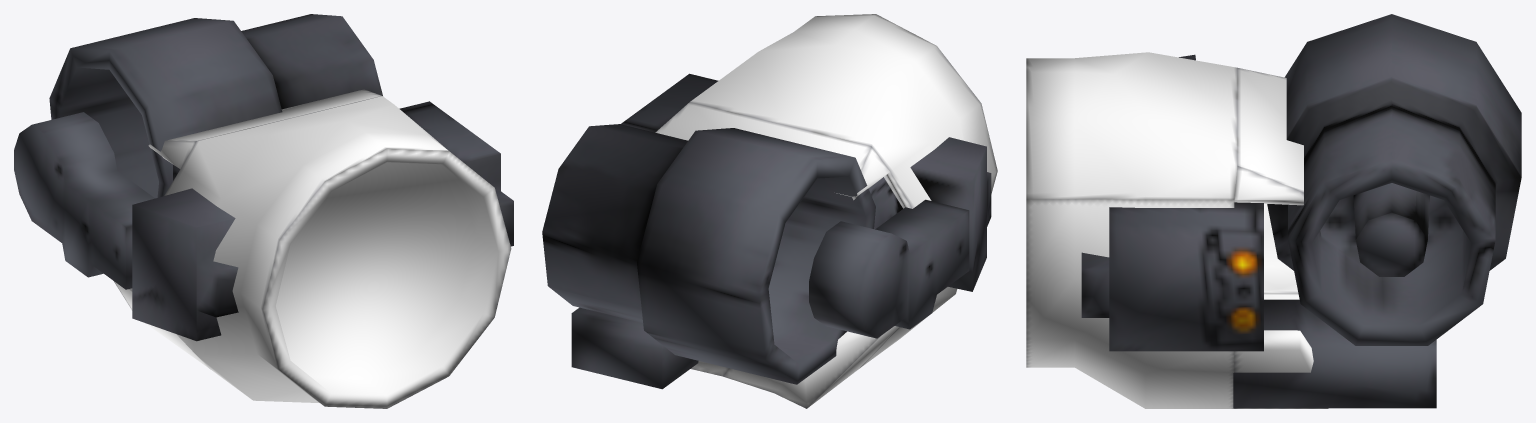
The model's file is l_uarm.obj.
3 renders of one model, left to right at view 1: azimuth 30°, elevation 25°; view 2: azimuth 150°, elevation 25°; view 3: azimuth 270°, elevation 25°, orthographic. The views are drawn at different scales.
Parts seen in each view (by area): view 1: <dummy_root>; view 2: <dummy_root>; view 3: <dummy_root>.
Boxes of the visible parts, x1,y1,x2,y2 form: <dummy_root>: [14, 14, 513, 408]; <dummy_root>: [542, 14, 997, 408]; <dummy_root>: [1026, 14, 1521, 408].
Size of the model in its own units: 0.1475 by 0.1261 by 0.1769.
Materials: 1 (1 with a texture image).
